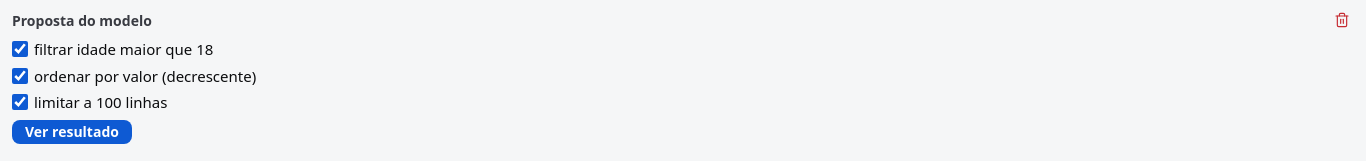
Test: ArtifactSteps › has nothing to run once every step is off
Click the checkbox labelled "filtrar idade maior que 18": point(20, 49) [12,41,28,57]
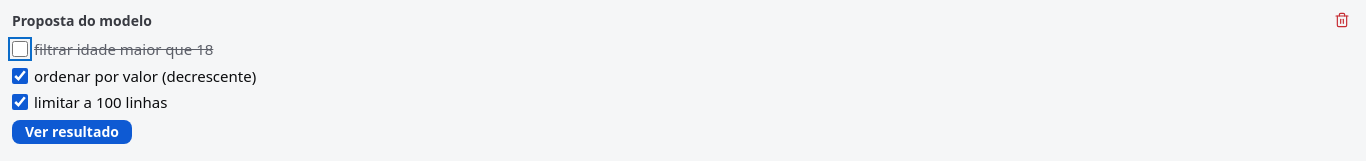
Click the checkbox labelled "ordenar por valor (decrescente)": point(20, 76) [12,68,28,84]
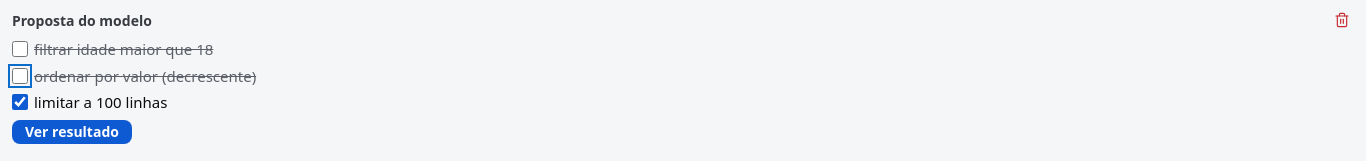
Click the checkbox labelled "limitar a 100 linhas": point(20, 102) [12,94,28,110]
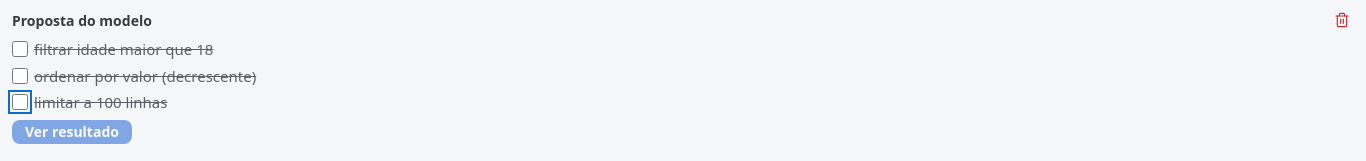
Expected: the button "Ver resultado" is disabled, [12,120,132,144]
